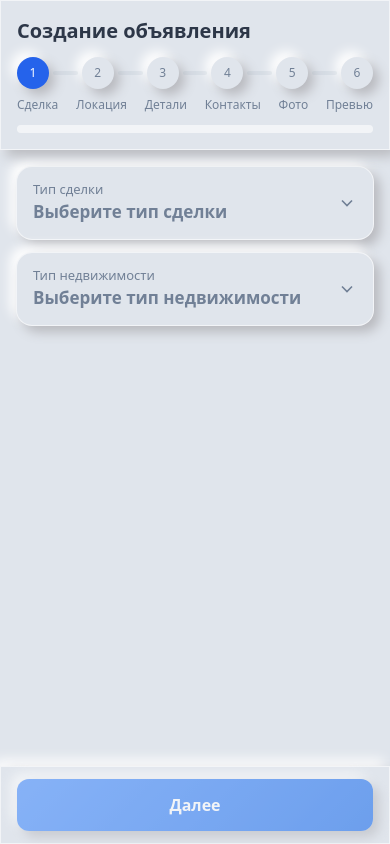
Test: CreateListingWizard — кнопка «Далее» › типы недвижимости: английские слаги из БД выводятся как эмодзи, без английских слов
# Раскрываем плитку «Тип недвижимости».
What coordinates should you click on to do the following:
click the text "Тип недвижимости"
I would click on:
 (94, 275)
Its box is [33,266,155,284].
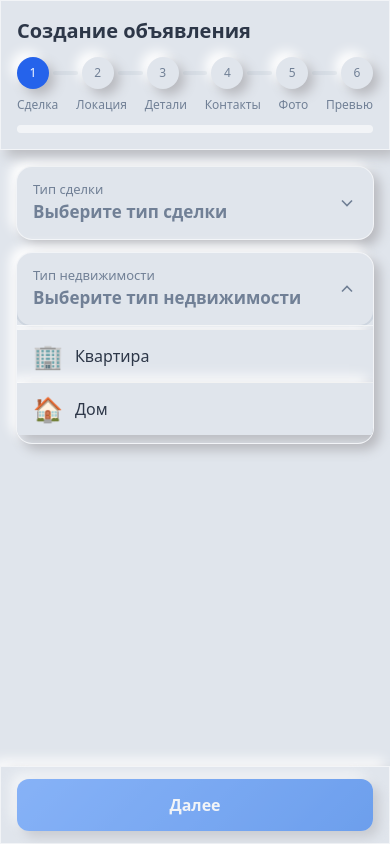
Expected: the text "Квартира" is shown, [75,344,149,366]
Expected: the text "Дом" is shown, [75,398,108,420]
